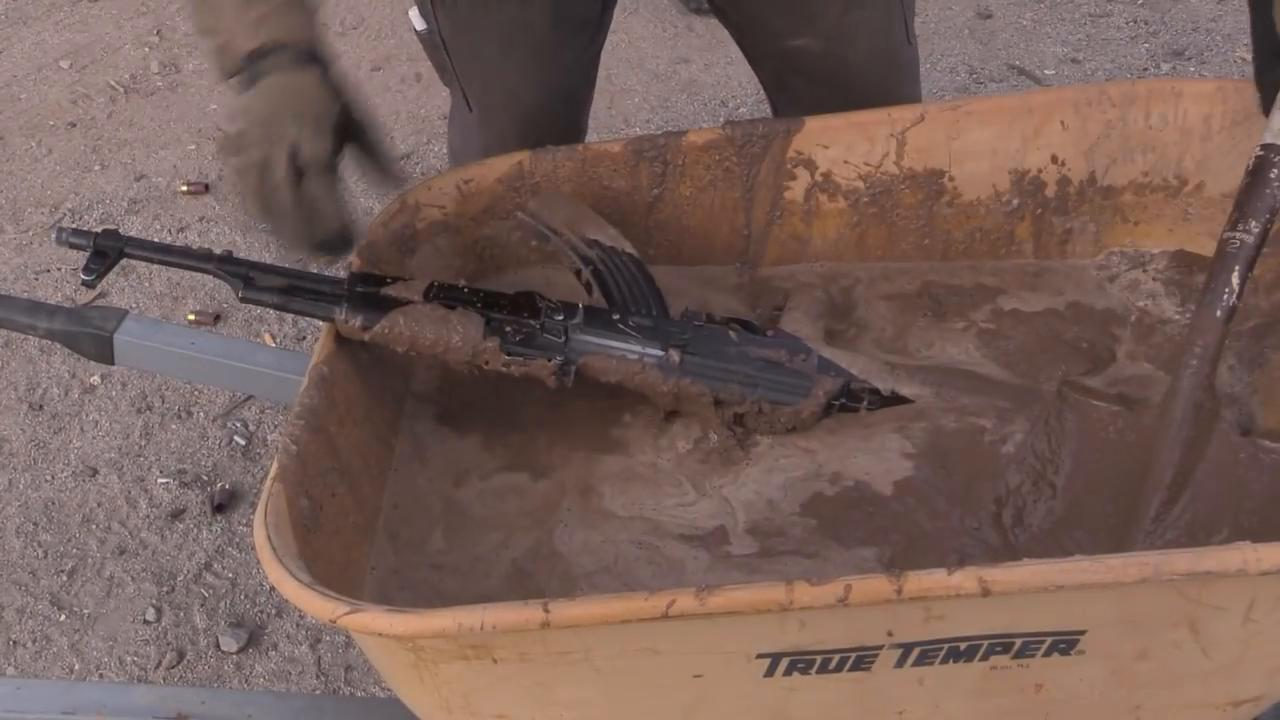AK47 Rifle: (52, 186, 915, 415)
